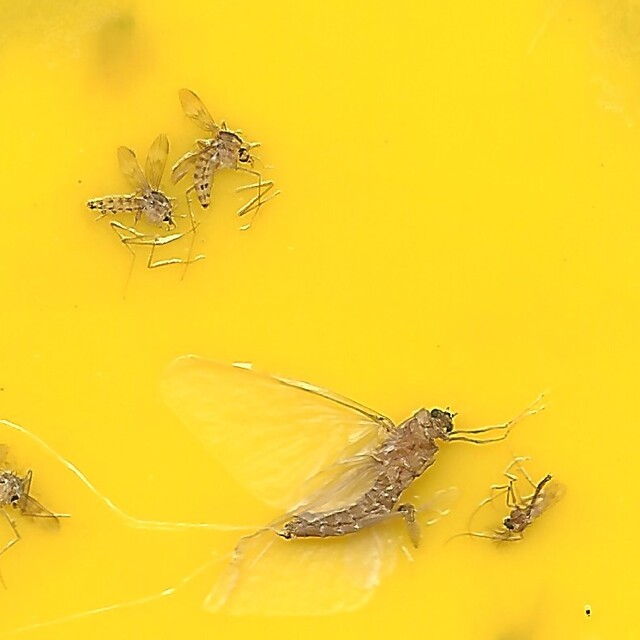Ephemeroptera: (164, 345, 463, 556)
Nematocera: (159, 84, 260, 217), (81, 137, 178, 236), (500, 477, 559, 539)
